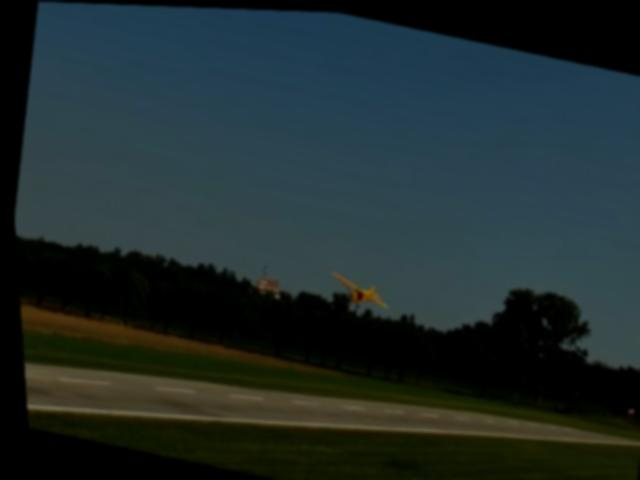uav: (316, 260, 394, 315)
